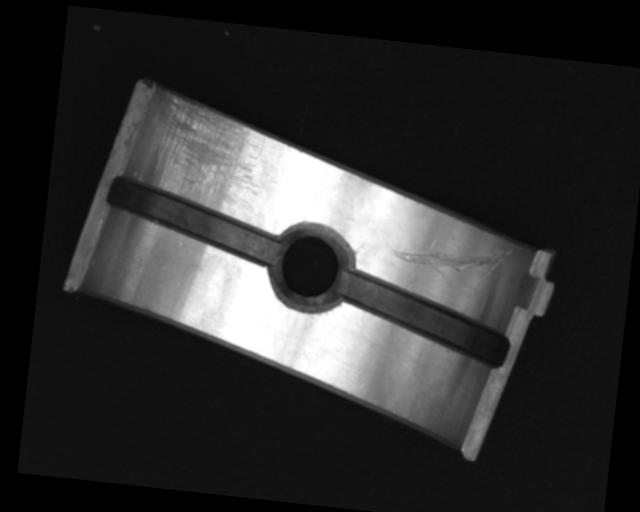gap: (331, 266, 516, 369), (100, 175, 288, 264)
hole: (267, 222, 355, 313)
nick: (388, 233, 515, 295)
scratch: (142, 87, 267, 211)
